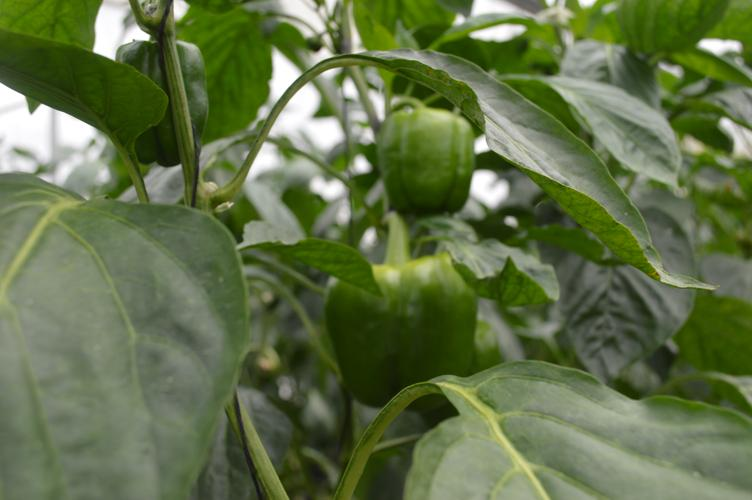BellPepper: (314, 239, 482, 426), (107, 33, 213, 170), (373, 94, 482, 224)
